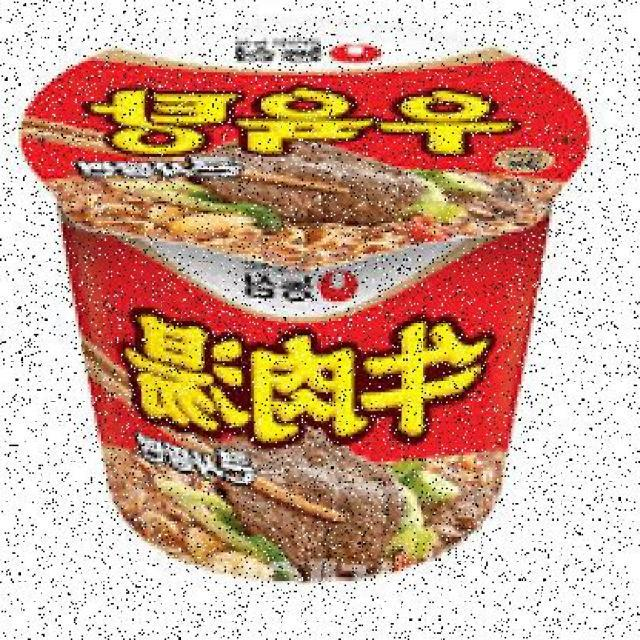Miscellaneous: (0, 9, 597, 580)
